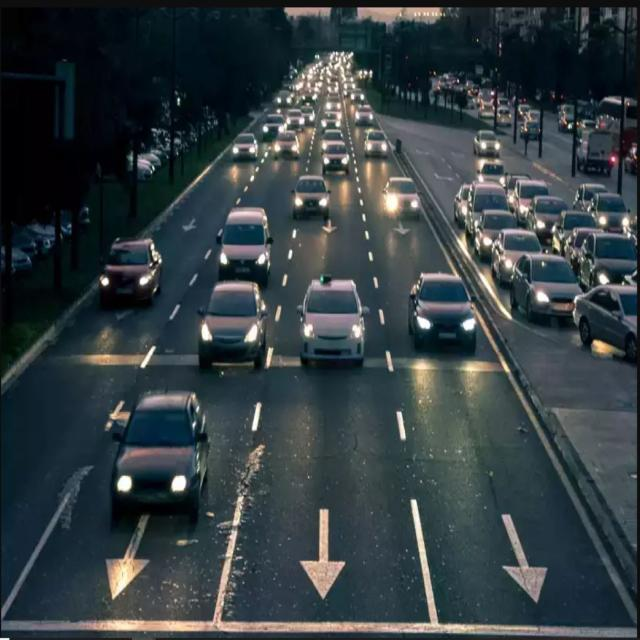headlights: (110, 461, 204, 504), (292, 314, 373, 350), (194, 314, 271, 351), (408, 310, 483, 345), (96, 268, 159, 296), (214, 244, 272, 274), (382, 194, 427, 217), (291, 193, 337, 215), (319, 154, 360, 171), (268, 140, 305, 158), (230, 143, 264, 159), (362, 140, 392, 157)
